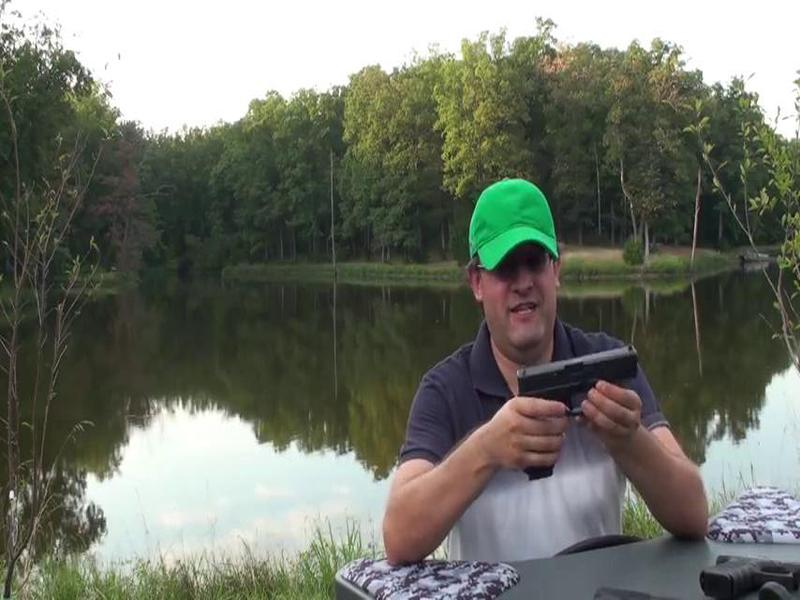Pistola: (485, 334, 661, 494)
